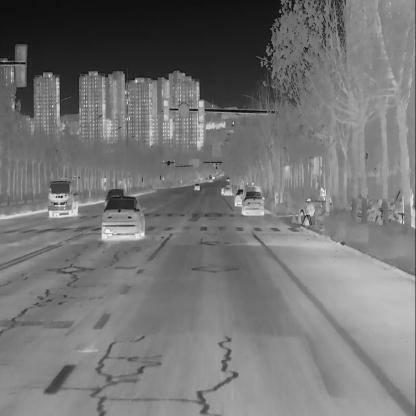car: (100, 192, 146, 242), (241, 188, 265, 216), (104, 186, 127, 208), (233, 187, 245, 206), (222, 184, 233, 198), (193, 182, 201, 192), (225, 177, 230, 182)
truck: (45, 177, 80, 219), (208, 173, 212, 184)
